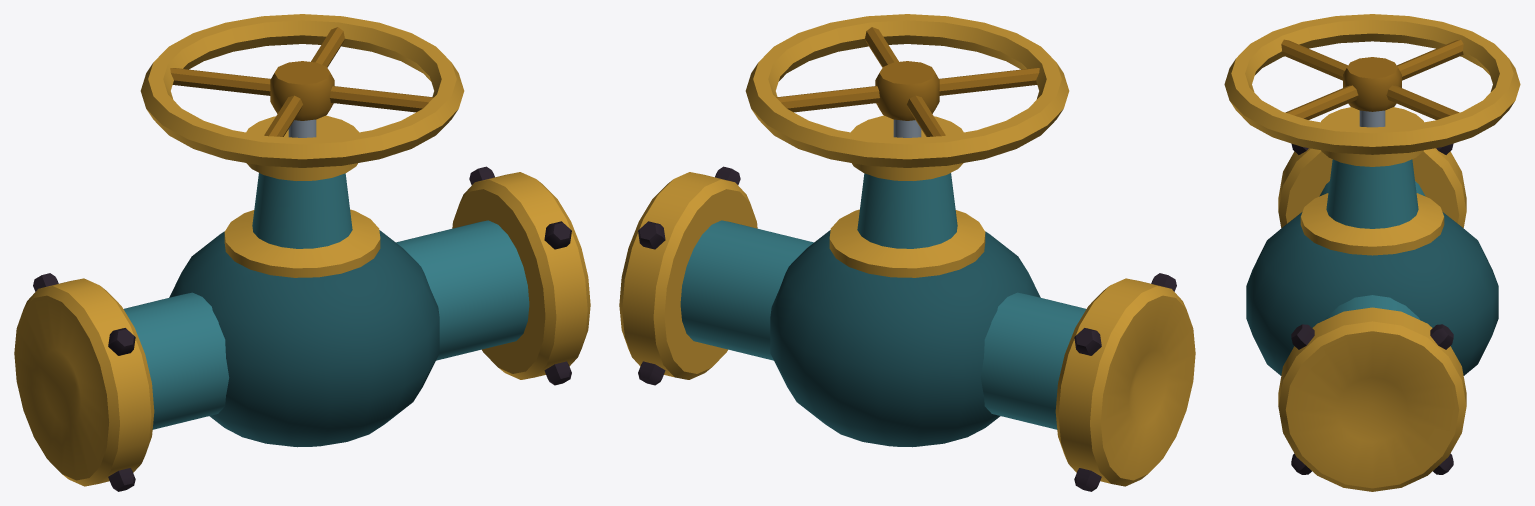
File: Valve_28.glb
3 renders of one model, left to right at view 1: azimuth 30°, elevation 25°; view 2: azimuth 150°, elevation 25°; view 3: azimuth 270°, elevation 25°, orthographic. The views are drawn at different scales.
Parts seen in each view (by area): view 1: Valve_28; view 2: Valve_28; view 3: Valve_28.
Boxes of the visible parts, left/top/right/bottom form: Valve_28: left=14, top=14, right=590, bottom=491; Valve_28: left=619, top=14, right=1195, bottom=491; Valve_28: left=1224, top=14, right=1520, bottom=491.
Size of the model in its own units: 2.77 by 1.98 by 1.61.
